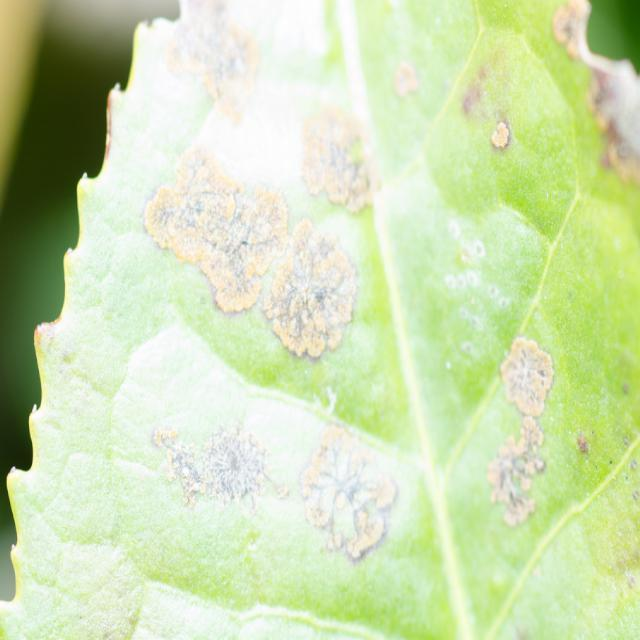Tea red rust: (155, 15, 562, 556)
